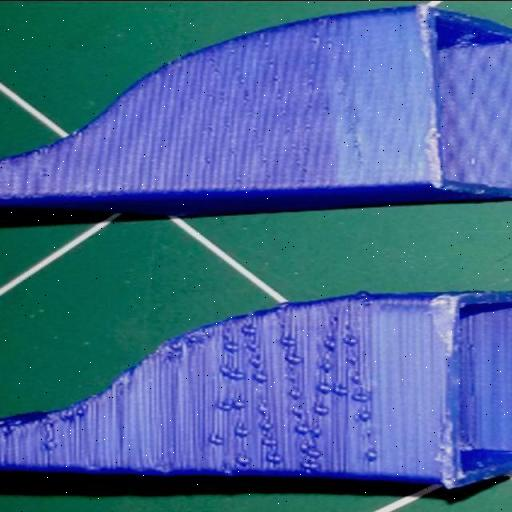blobs: (348, 410, 375, 424), (346, 392, 373, 406), (306, 400, 330, 414), (276, 335, 300, 348), (284, 350, 306, 364), (242, 354, 263, 368), (316, 384, 338, 397), (242, 338, 262, 352), (302, 448, 326, 459), (260, 452, 286, 462), (206, 434, 224, 448), (216, 361, 234, 375), (234, 454, 252, 468), (281, 388, 302, 400), (234, 426, 254, 438), (345, 352, 363, 365), (239, 324, 255, 338), (254, 420, 276, 430), (356, 428, 378, 438), (292, 423, 310, 435), (303, 460, 321, 472), (216, 400, 232, 413), (256, 402, 272, 415), (294, 440, 312, 451), (348, 371, 362, 384), (346, 335, 360, 348), (220, 342, 238, 352), (317, 361, 333, 372), (260, 436, 276, 446), (366, 450, 382, 460), (250, 372, 264, 382), (232, 398, 246, 408), (330, 386, 344, 396), (317, 363, 333, 371)
